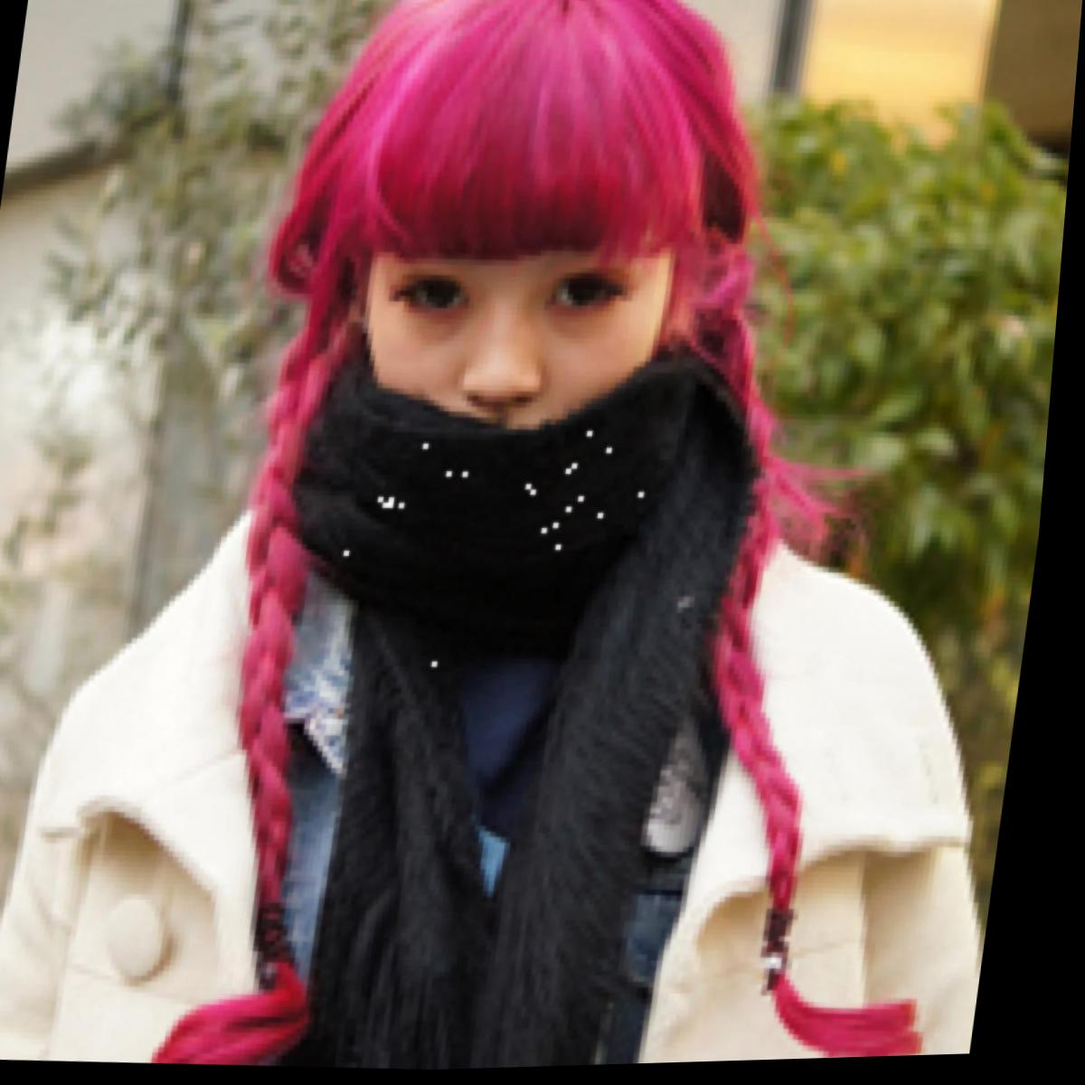WRONG: (352, 193, 703, 519)
